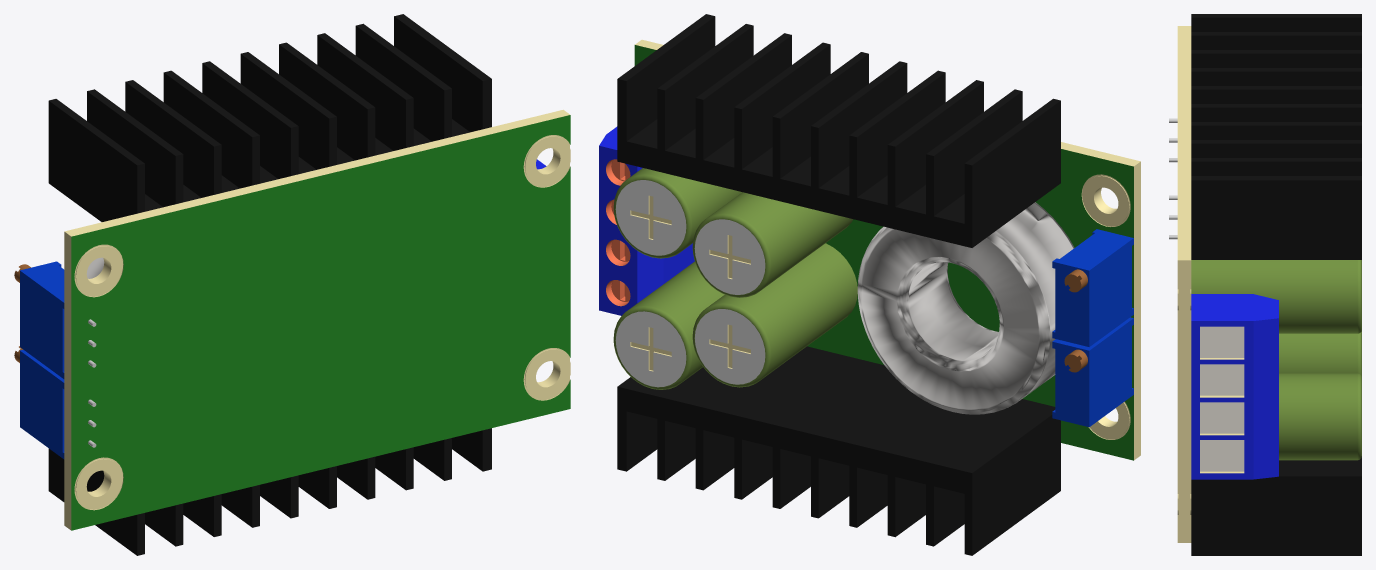
Rendered from converter_DC_DC.obj.
3 views of the same model, side by side, from view 1: azimuth 30°, elevation 25°; view 2: azimuth 150°, elevation 25°; view 3: azimuth 270°, elevation 25° (orthographic). The views are drawn at different scales.
Parts seen in each view (by area): view 1: Body1, Body1.002_Body1.001, Body1.001; view 2: Body1, Body1.003_Body1.002, Body1.002_Body1.001, Body1.001; view 3: Body1.
Part boxes in pixels (<box>): Body1: <box>48,14,570,555</box>; Body1.002_Body1.001: <box>14,261,96,378</box>; Body1.001: <box>14,346,96,459</box>; Body1: <box>599,14,1140,555</box>; Body1.003_Body1.002: <box>857,202,1074,414</box>; Body1.002_Body1.001: <box>1052,229,1133,346</box>; Body1.001: <box>1052,317,1133,427</box>; Body1: <box>1177,14,1361,555</box>.
Bounding box in the file's own units: 0.065 × 0.0486 × 0.0226.
